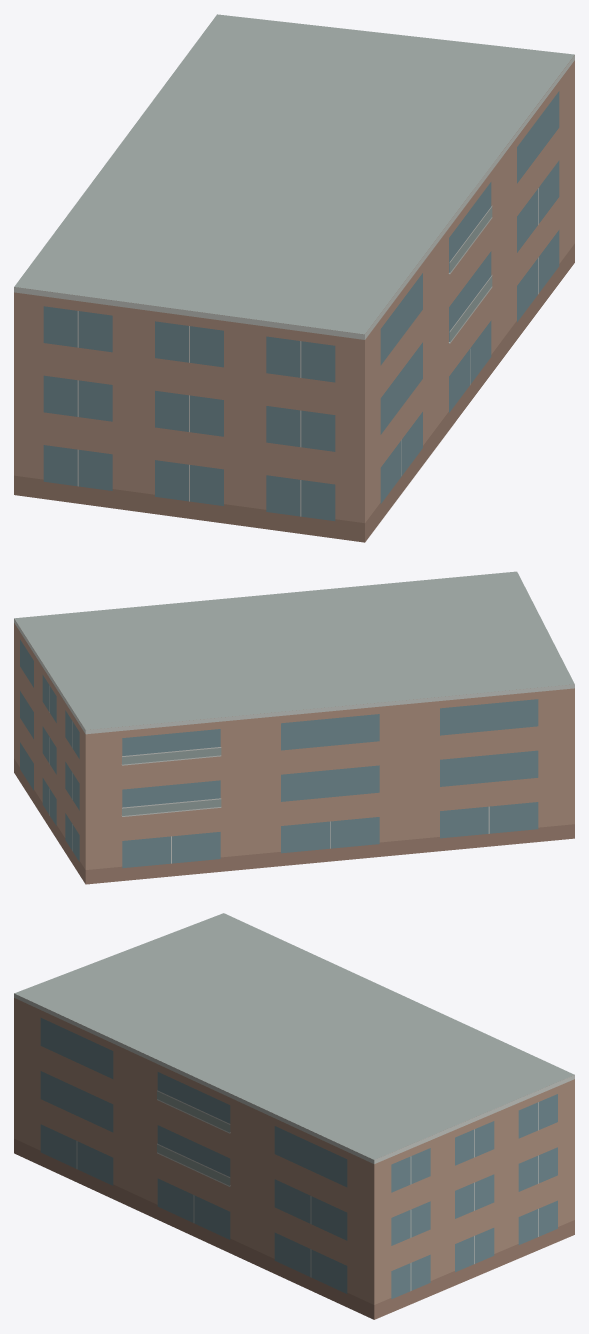
File: survey-upis-32839783.glb
3 renders of one model, top to bottom at view 1: azimuth 30°, elevation 25°; view 2: azimuth 150°, elevation 25°; view 3: azimuth 270°, elevation 25°, orthographic. The views are drawn at different scales.
Visible parts, largest first — view 1: survey-upis-32839783.tmp; view 2: survey-upis-32839783.tmp; view 3: survey-upis-32839783.tmp.
Part boxes in pixels (x1,y1,x2,y2): survey-upis-32839783.tmp: (14, 14, 574, 542); survey-upis-32839783.tmp: (14, 571, 574, 884); survey-upis-32839783.tmp: (14, 913, 574, 1319).
Size of the model in its own units: 30.31 by 9.15 by 29.09.
